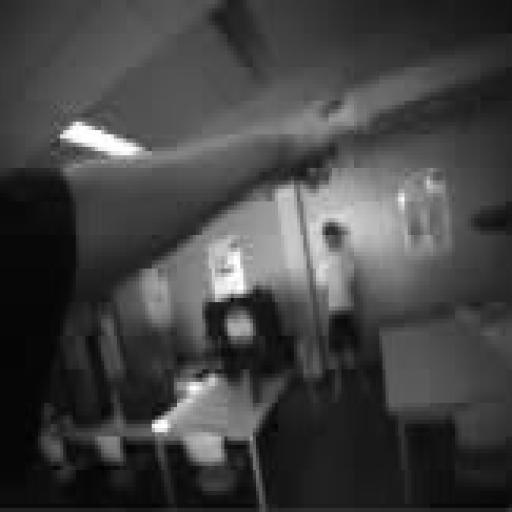human: (0, 110, 344, 503), (320, 219, 360, 394)
